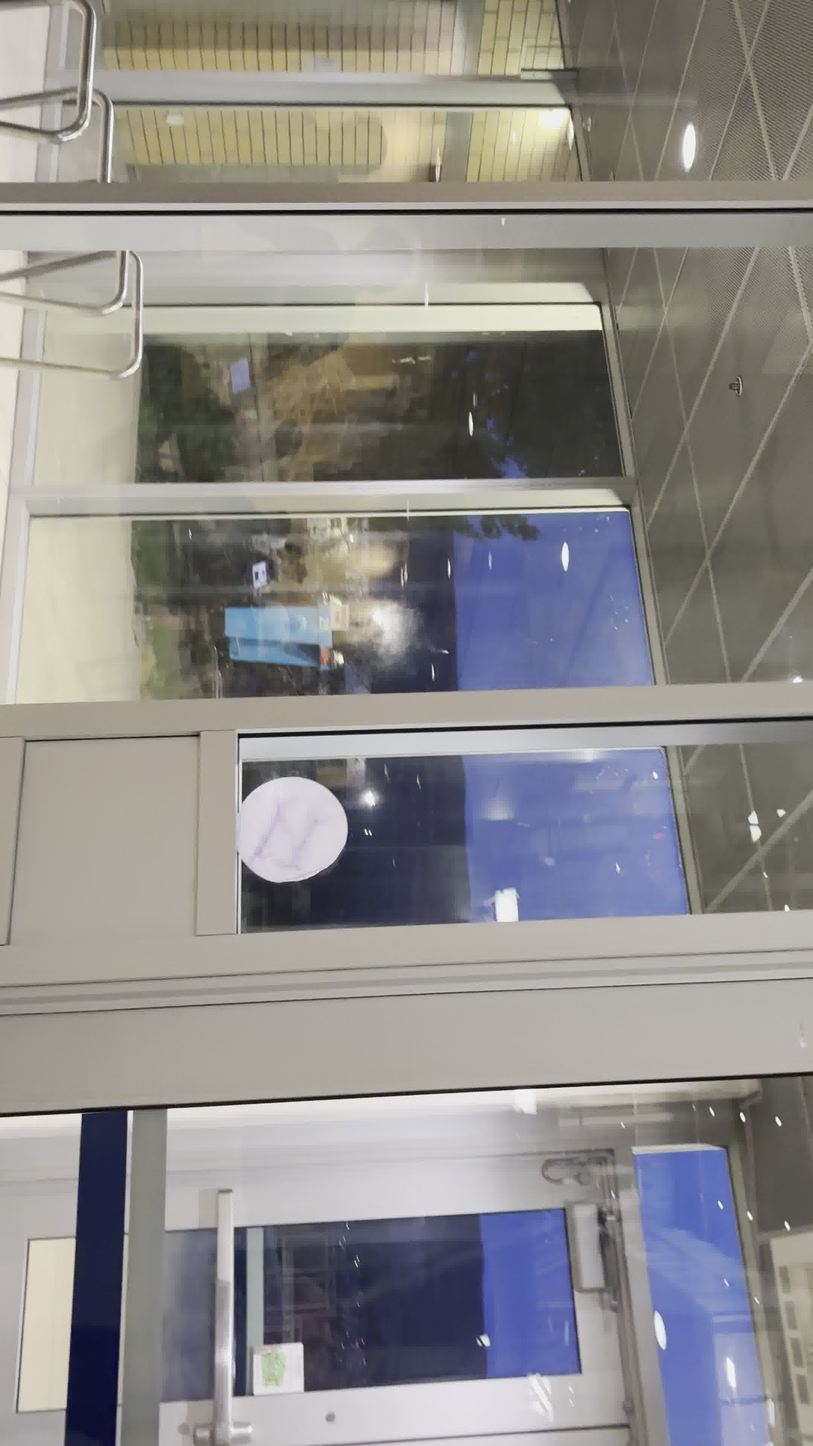Target: (236, 775, 349, 885)
